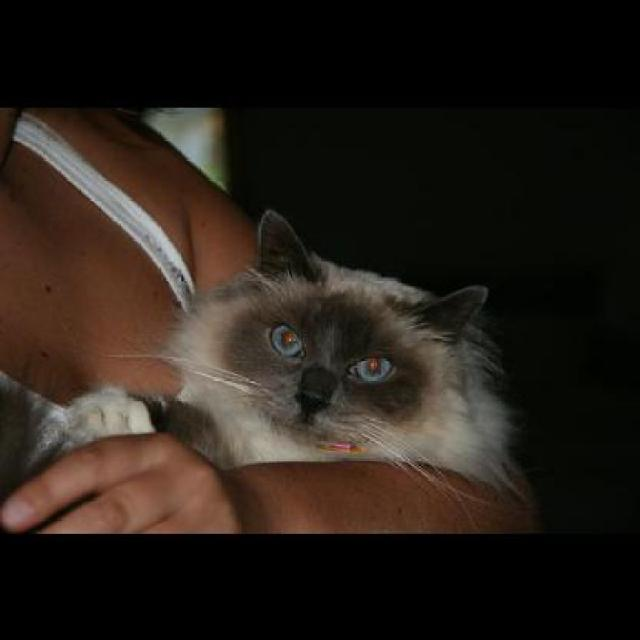unauthorized: (0, 206, 532, 533)
